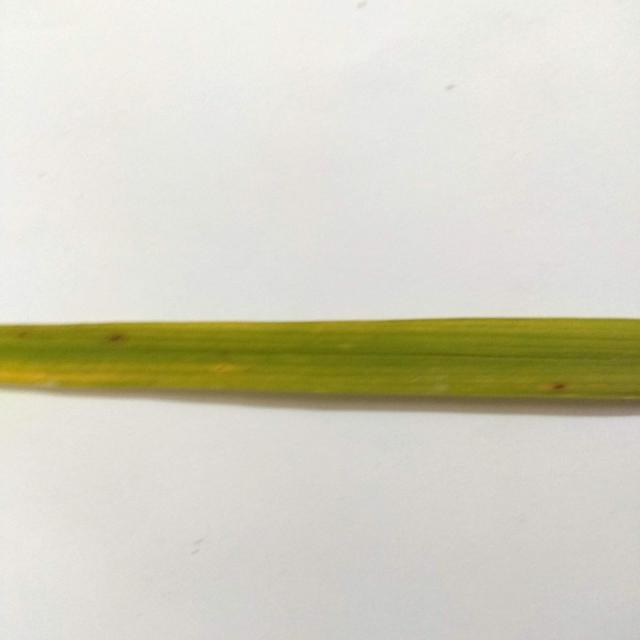Brown spot: (0, 228, 640, 441)
